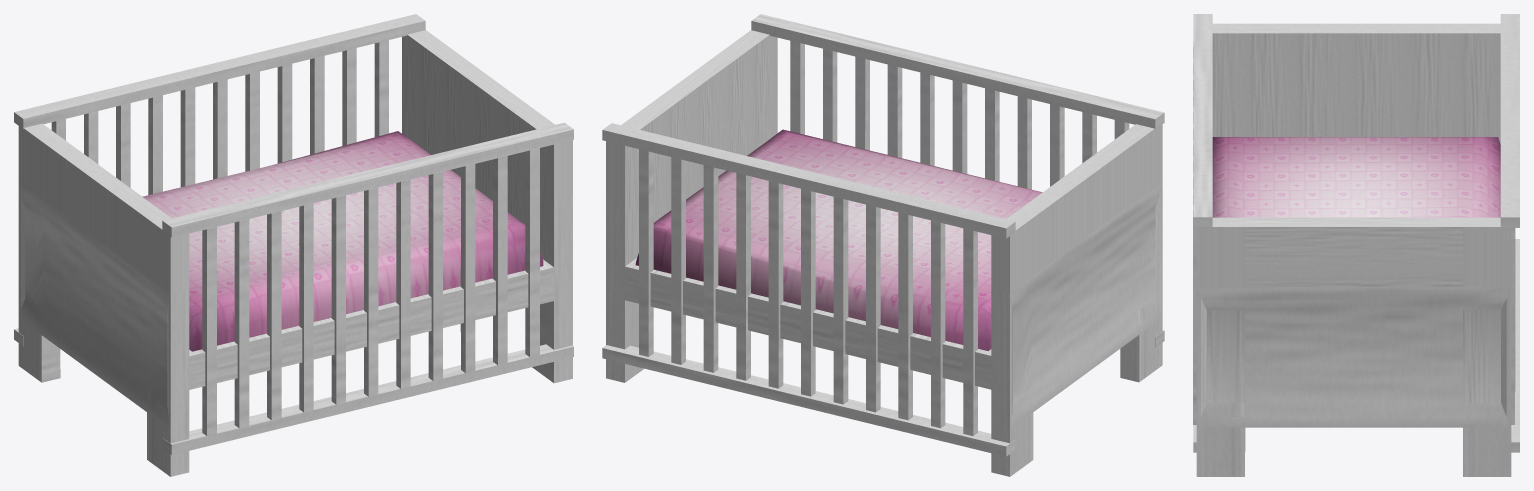
File: Crib_A.FBX
3 renders of one model, left to right at view 1: azimuth 30°, elevation 25°; view 2: azimuth 150°, elevation 25°; view 3: azimuth 270°, elevation 25°, orthographic. The views are drawn at different scales.
Visible parts, largest first — view 1: Crib; view 2: Crib; view 3: Crib.
Boxes of the visible parts, box(x1,y1,x2,y2) form: Crib: box(14, 14, 573, 476); Crib: box(602, 14, 1164, 476); Crib: box(1193, 14, 1519, 476).
Bounding box in the file's own units: 236 × 140 × 160.
